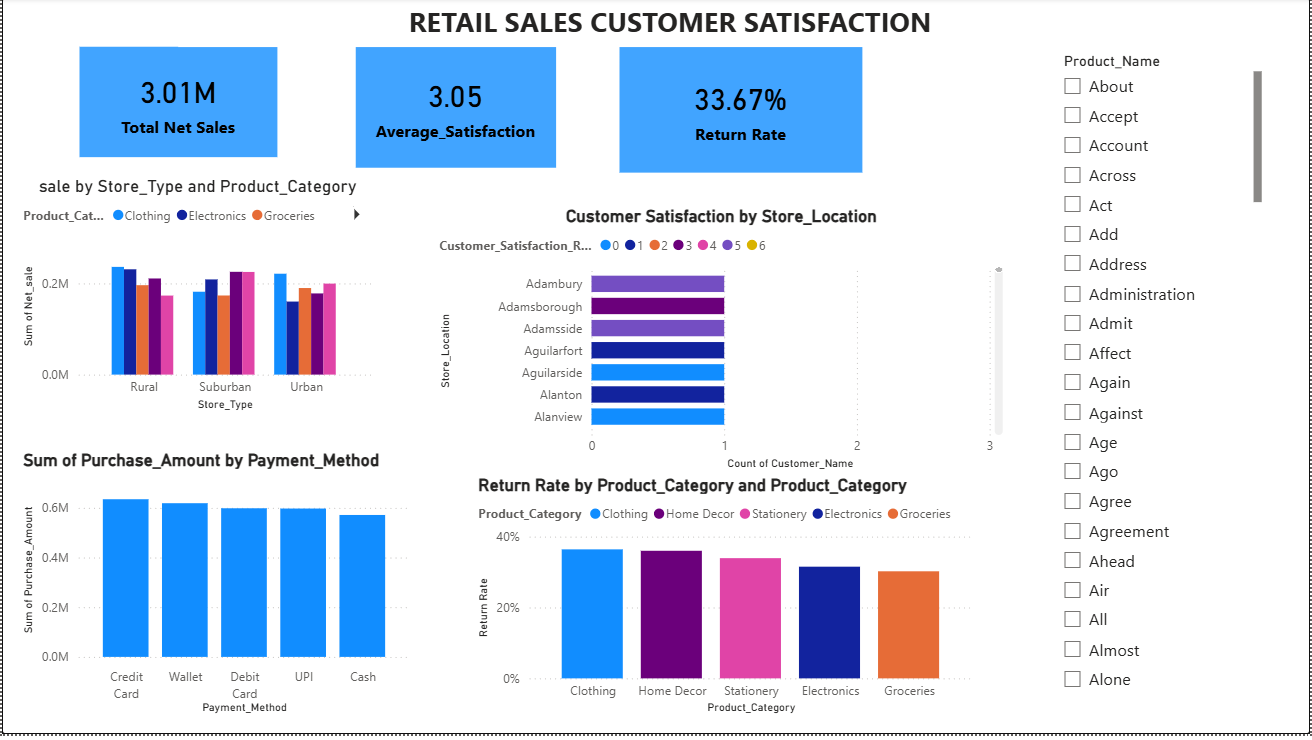

The dashboard page shown, as its layout file describes it:
{"tool":"powerbi","page":{"name":"Page 1","canvas":[1280,720],"ordinal":0},"visuals":[{"type":"clusteredColumnChart","title":"sale by Store_Type and Product_Category","fields":{"Category":["Table1.Store_Type"],"Series":["Table1.Product_Category"],"Y":["Sum(Table1.Net_sale)"]},"box":[15.9,173.6,351,234.8],"z":0},{"type":"barChart","title":"Customer Satisfaction by Store_Location","fields":{"Category":["Table1.Store_Location"],"Series":["Table1.Customer_Satisfaction_Rating"],"Y":["CountNonNull(Table1.Customer_Name)"]},"box":[422.6,203.1,561.2,263.5],"z":1000},{"type":"columnChart","fields":{"Category":["Table1.Product_Category"],"Y":["Table1.Return Rate"],"Series":["Table1.Product_Category"]},"box":[461,465.9,494,239.7],"z":2000},{"type":"columnChart","fields":{"Y":["Sum(Table1.Purchase_Amount)"],"Category":["Table1.Payment_Method"]},"box":[15.9,441.4,388.9,264.1],"z":3000},{"type":"card","fields":{"Values":["Table1.Total Net Sales"]},"box":[75.8,47.7,193.2,107.6],"z":4000},{"type":"card","fields":{"Values":["Table1.Average_Satisfaction"]},"box":[346.1,45.2,195.7,121.1],"z":5000},{"type":"card","fields":{"Values":["Table1.Return Rate"]},"box":[604.1,45.2,237.2,126],"z":6000},{"type":"textbox","box":[172.4,0,962.4,47.7],"z":7000},{"type":"slicer","fields":{"Values":["Table1.Product_Name"]},"box":[1026.4,48,211.3,639.5],"z":8000}]}

Visuals, with their boxes in screenshot pixels (x1, y1, x2, y2), scaled from the page's 1280x720 canvas onto the 1312x740 screenshot:
"sale by Store_Type and Product_Category" clusteredColumnChart: [16,178,376,420]
"Customer Satisfaction by Store_Location" barChart: [433,209,1008,480]
columnChart - Table1.Product_Category x Table1.Return Rate: [473,479,979,725]
columnChart - Sum(Table1.Purchase_Amount) x Table1.Payment_Method: [16,454,415,725]
card - Table1.Total Net Sales: [78,49,276,160]
card - Table1.Average_Satisfaction: [355,46,555,171]
card - Table1.Return Rate: [619,46,862,176]
textbox: [177,0,1163,49]
slicer - Table1.Product_Name: [1052,49,1269,707]
